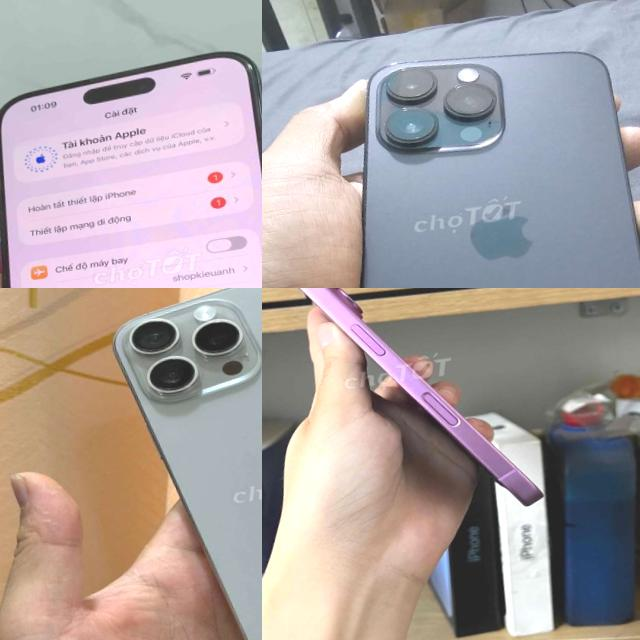gen_14: (293, 23, 640, 288)
gen_15: (0, 31, 262, 288)
gen_16: (270, 288, 549, 537), (114, 288, 262, 640)
